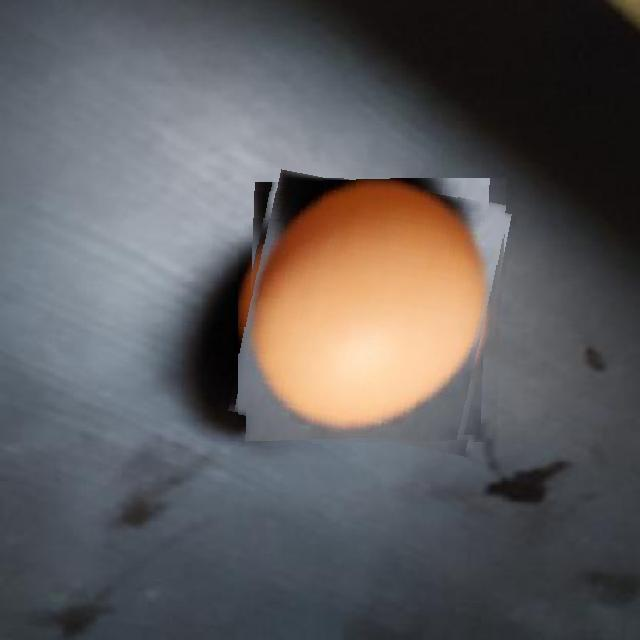biodegradable: (238, 178, 507, 447)
